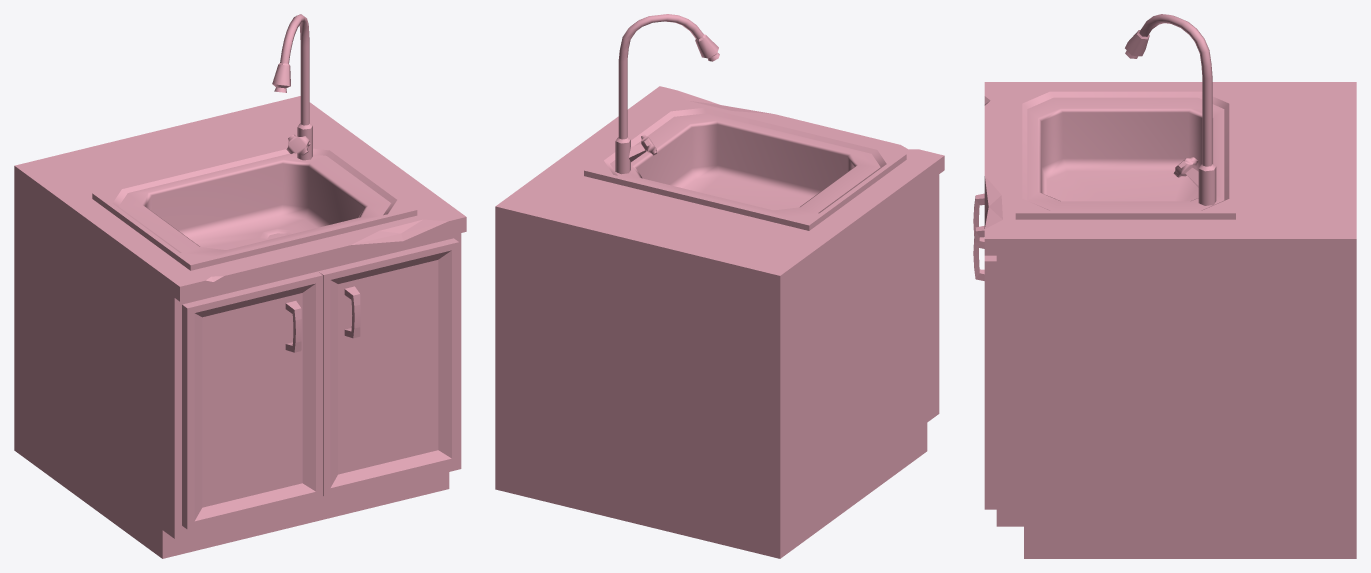
The model's file is KitchenSink.fbx.
3 views of the same model, side by side, from view 1: azimuth 30°, elevation 25°; view 2: azimuth 150°, elevation 25°; view 3: azimuth 270°, elevation 25° (orthographic). The views are drawn at different scales.
Parts seen in each view (by area): view 1: KitchenSink; view 2: KitchenSink; view 3: KitchenSink.
Part boxes in pixels (bbox=[...]): KitchenSink: bbox=[14, 14, 466, 558]; KitchenSink: bbox=[495, 14, 944, 558]; KitchenSink: bbox=[973, 14, 1356, 558].
Bounding box in the file's own units: 100 × 147 × 103.
